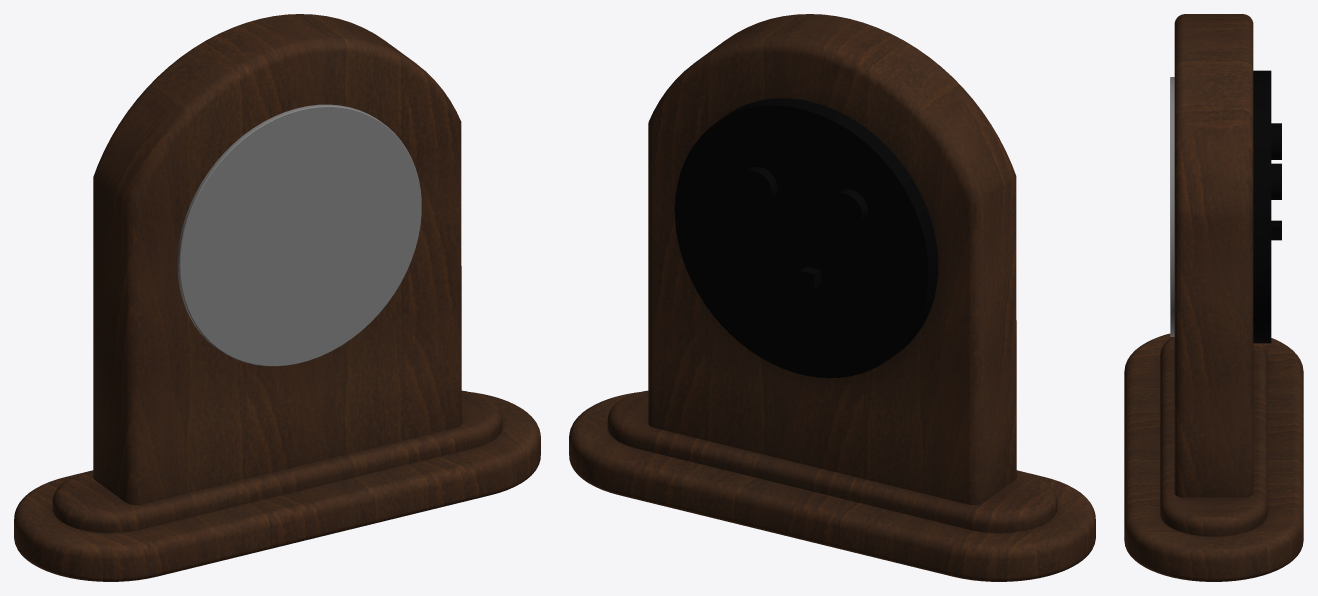
Rendered from time.obj.
3 views of the same model, side by side, from view 1: azimuth 30°, elevation 25°; view 2: azimuth 150°, elevation 25°; view 3: azimuth 270°, elevation 25° (orthographic). The views are drawn at different scales.
Parts seen in each view (by area): view 1: rama, glass; view 2: rama, zad; view 3: rama, zad, glass.
Part boxes in pixels (x1,y1,x2,y2): rama: [14, 14, 540, 581]; glass: [177, 104, 421, 366]; rama: [569, 14, 1095, 581]; zad: [674, 98, 938, 378]; rama: [1124, 14, 1303, 581]; zad: [1253, 70, 1281, 343]; glass: [1170, 77, 1174, 336].
Bounding box in the file's own units: 0.1499 × 0.135 × 0.05.
1 material, 1 textured.
